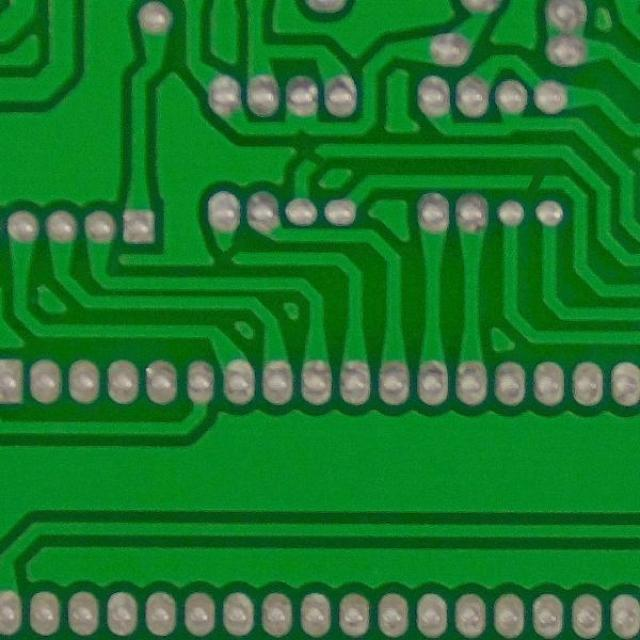open_circuit: (303, 144, 332, 171), (216, 240, 246, 265), (521, 167, 547, 194)
